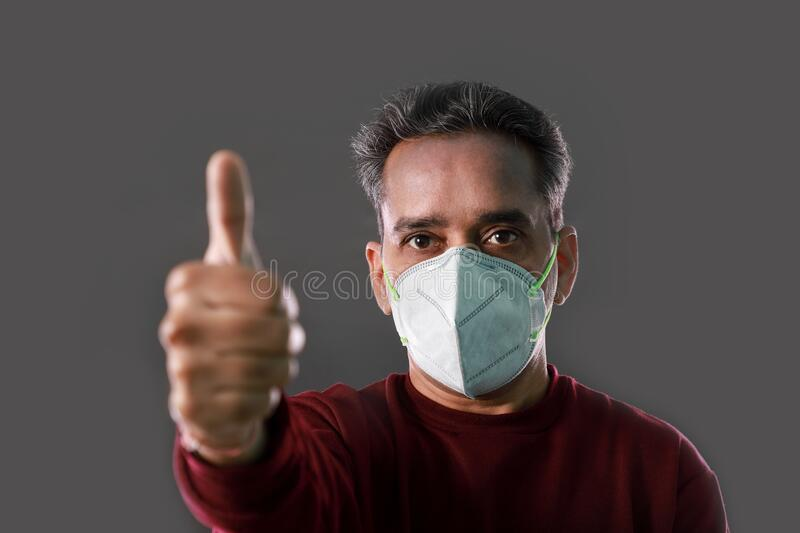with_mask: (362, 126, 581, 394)
